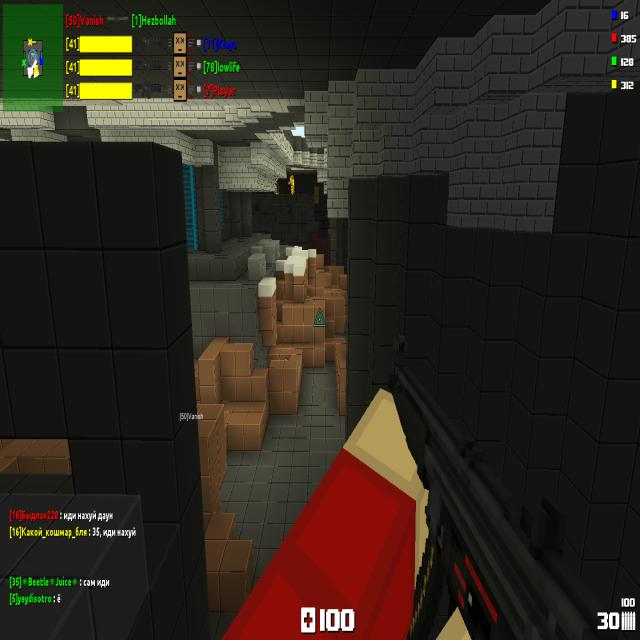enemy: (288, 175, 295, 194), (274, 178, 280, 195)
